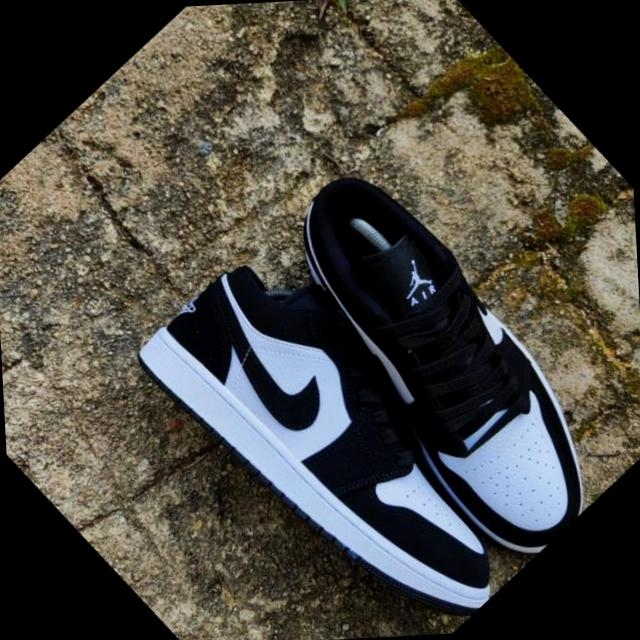nike_fake_jordan: (124, 209, 567, 640), (233, 131, 640, 578)
